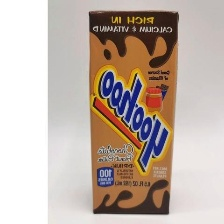carton: (72, 5, 181, 218)
